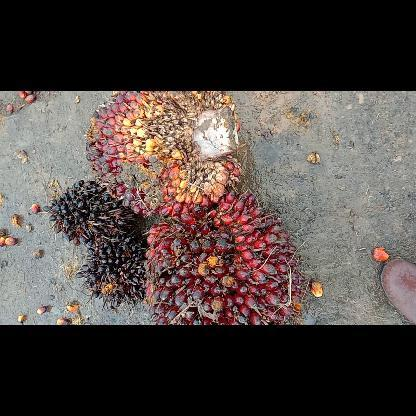TBS abnormal: (42, 177, 136, 245), (72, 233, 148, 310)
TBS masak: (142, 188, 306, 324), (83, 91, 246, 219)
